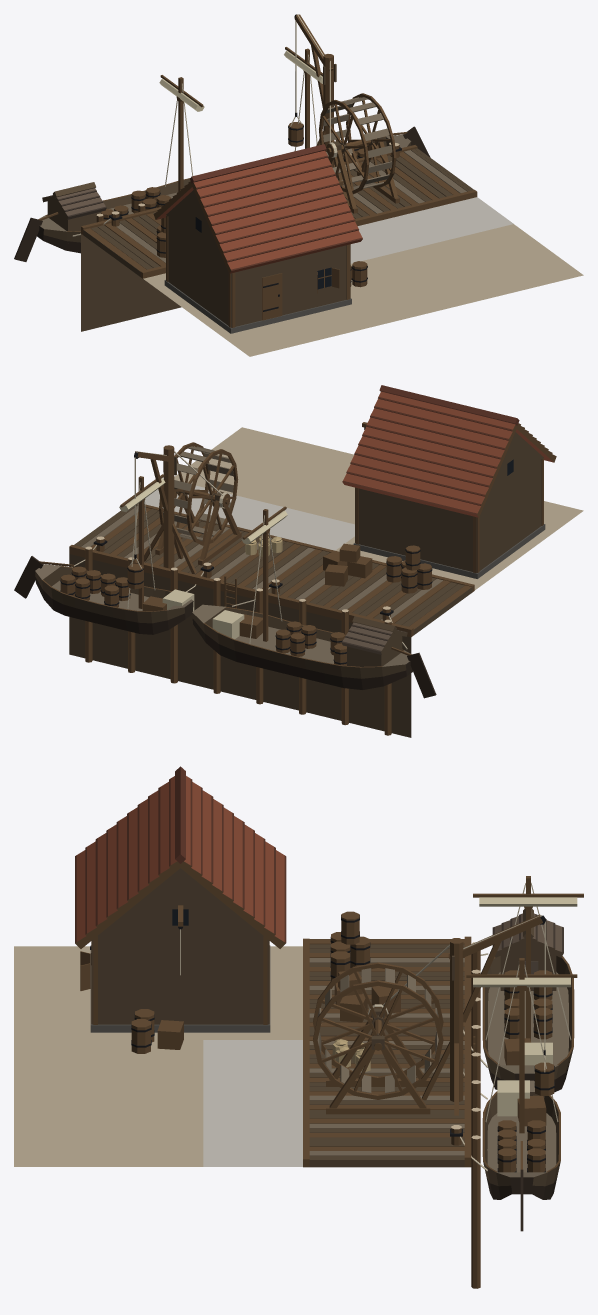
The model's file is wasser_hafen.glb.
The picture shows the model from 3 angles, top to bottom: view 1: azimuth 30°, elevation 25°; view 2: azimuth 150°, elevation 25°; view 3: azimuth 270°, elevation 25°; orthographic projection. The views are drawn at different scales.
Parts seen in each view (by area): view 1: Hafen, Kahn1, Tretrad, Kahn2, Ausleger, Ware; view 2: Hafen, Kahn1, Kahn2, Tretrad, Ware, Ausleger; view 3: Hafen, Kahn1, Kahn2, Tretrad, Ware, Ausleger.
Part boxes in pixels (left/top/right/bottom): Hafen: left=81, top=54, right=583, bottom=356; Kahn1: left=14, top=75, right=204, bottom=261; Tretrad: left=319, top=93, right=396, bottom=194; Kahn2: left=284, top=47, right=430, bottom=164; Ausleger: left=288, top=14, right=336, bottom=146; Ware: left=156, top=217, right=367, bottom=287; Hafen: left=69, top=385, right=583, bottom=737; Kahn1: left=192, top=506, right=436, bottom=698; Kahn2: left=14, top=474, right=203, bottom=634; Tretrad: left=159, top=442, right=238, bottom=545; Ware: left=245, top=535, right=432, bottom=593; Ausleger: left=127, top=451, right=176, bottom=589; Hafen: left=14, top=766, right=480, bottom=1288; Kahn1: left=463, top=876, right=583, bottom=1092; Kahn2: left=460, top=958, right=577, bottom=1231; Tretrad: left=313, top=962, right=443, bottom=1099; Ware: left=131, top=911, right=400, bottom=1071; Ausleger: left=448, top=914, right=554, bottom=1095.
Size of the model in its own units: 19.84 by 10.97 by 17.45.
